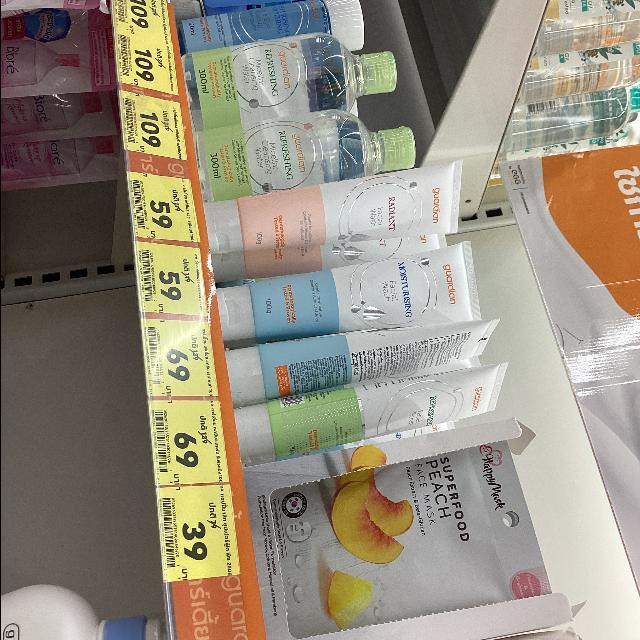Squeeze Tube: (167, 169, 515, 455)
